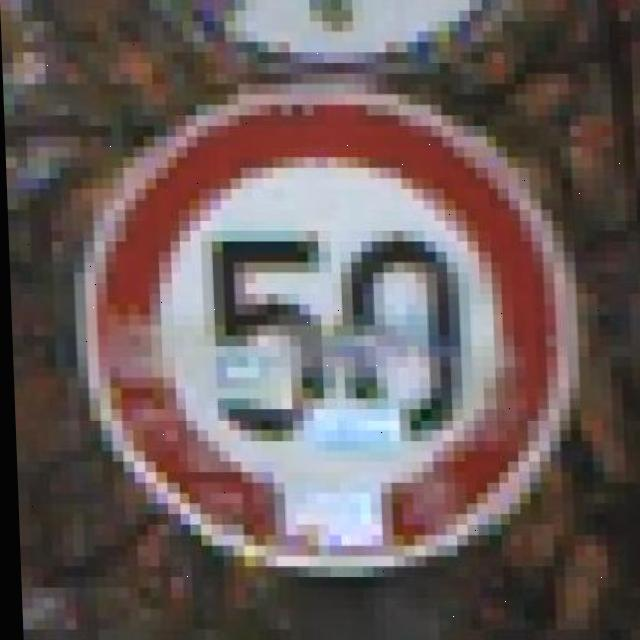Speed limit 50: (74, 98, 582, 573)
